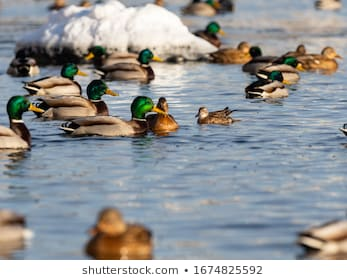duck: (60, 94, 176, 155), (34, 79, 123, 124)
